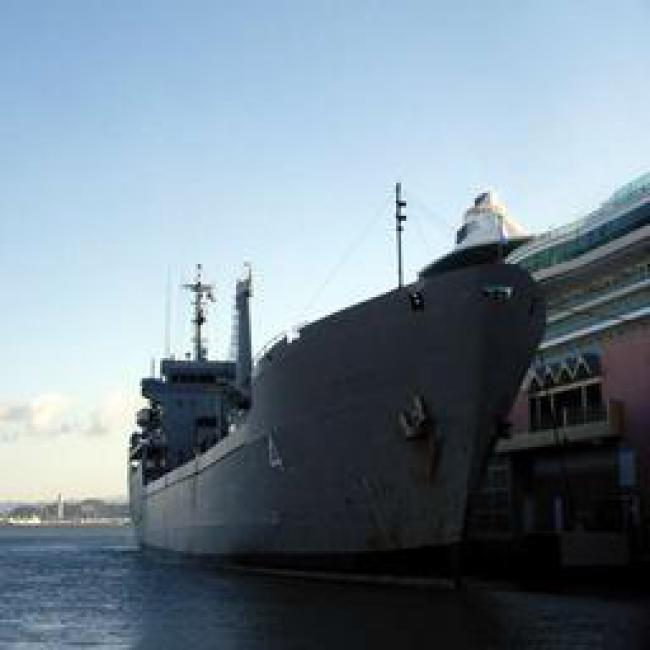Ship: (111, 314, 527, 581)
